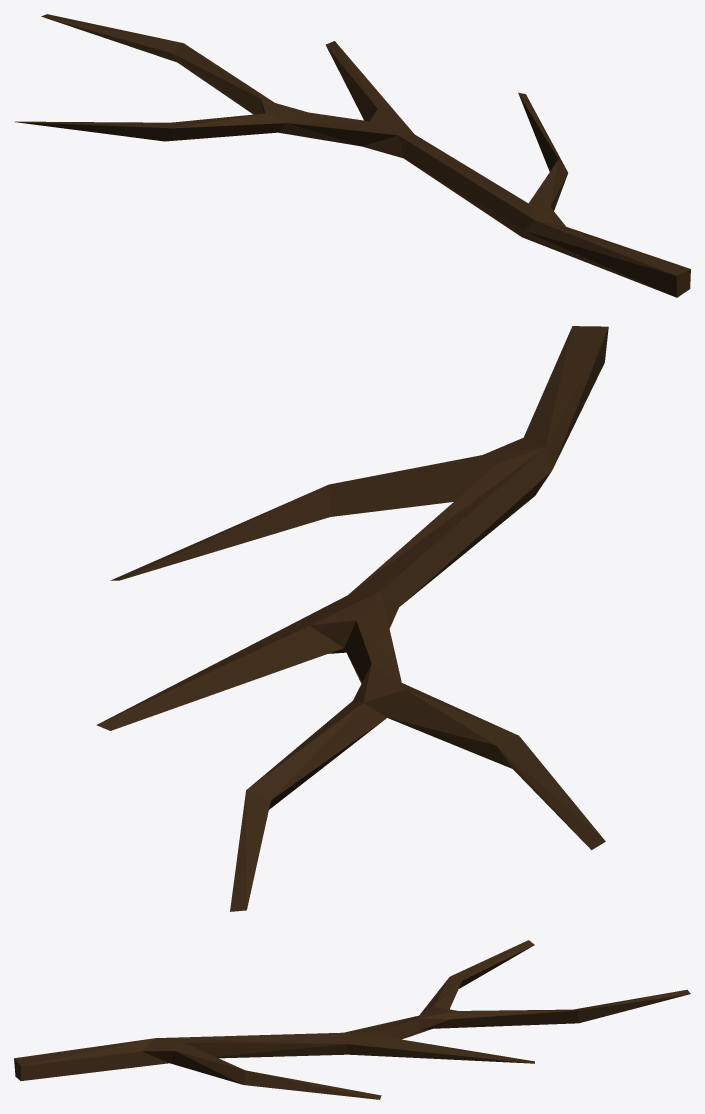
The model's file is branch_0.fbx.
3 renders of one model, top to bottom at view 1: azimuth 30°, elevation 25°; view 2: azimuth 150°, elevation 25°; view 3: azimuth 270°, elevation 25°, orthographic. The views are drawn at different scales.
Parts seen in each view (by area): view 1: Branch; view 2: Branch; view 3: Branch.
Boxes of the visible parts, box(x1,y1,x2,y2) form: Branch: box(15, 14, 690, 297); Branch: box(96, 326, 608, 911); Branch: box(14, 940, 690, 1099).
Size of the model in its own units: 0.3534 by 0.0197 by 0.6429.
